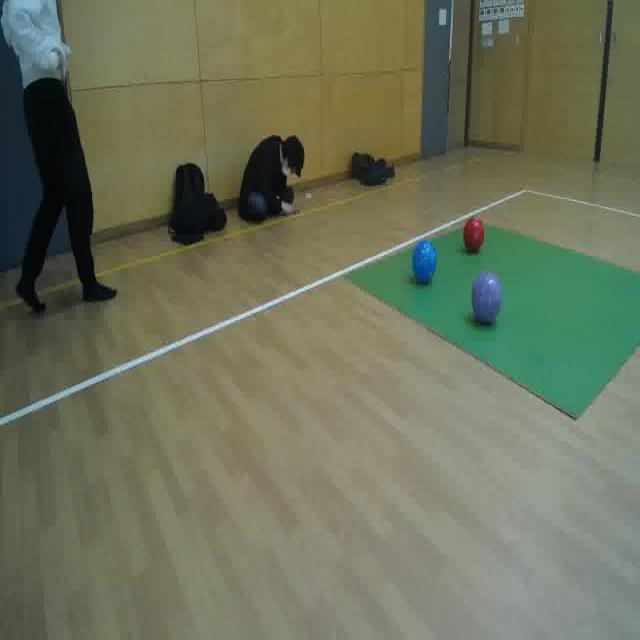blue_ball: (401, 240, 443, 282)
purple_ball: (470, 270, 504, 330)
red_ball: (463, 211, 489, 260)
